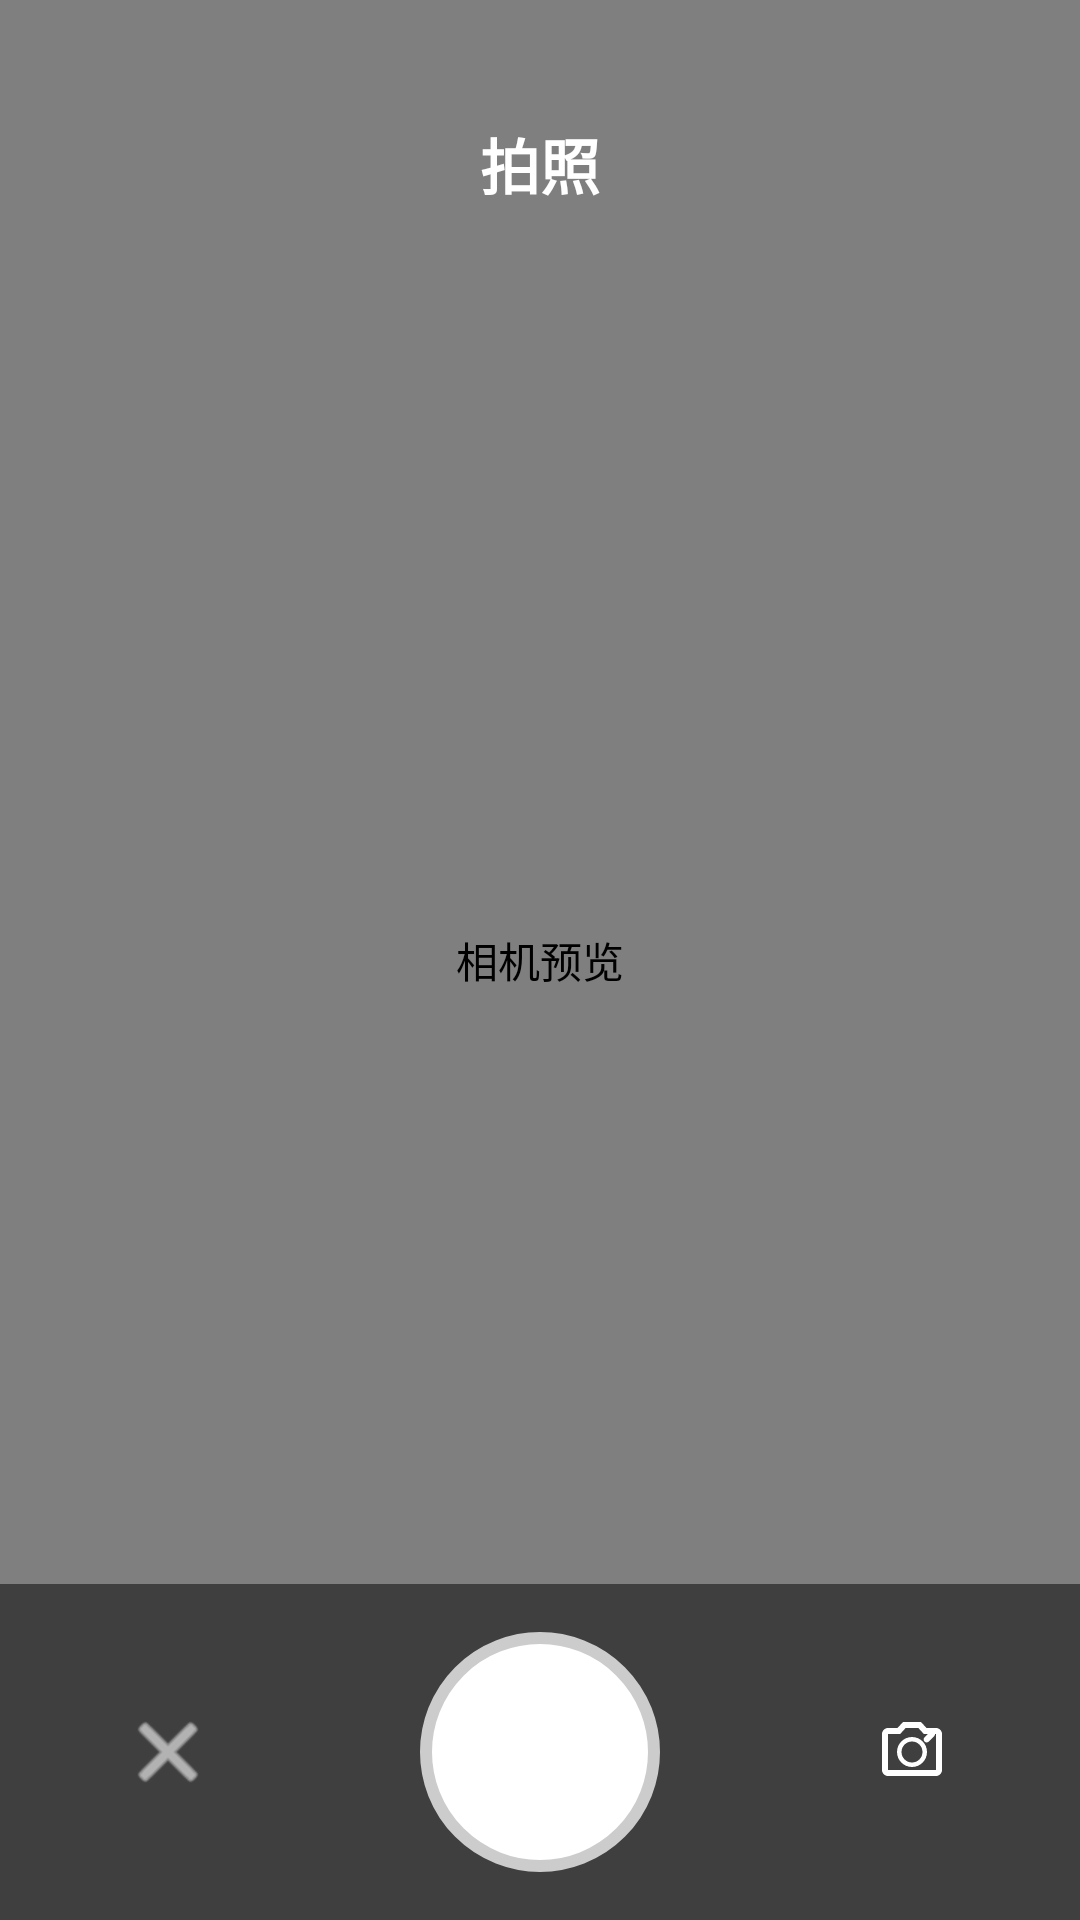

Screen size 1080px×1920px. Icon name, then its box in pixels as [x1=x1, y1=y1, x2=x2, y2=y2]:
关闭相机: [x1=138, y1=1722, x2=198, y2=1782]
切换摄像头: [x1=882, y1=1722, x2=942, y2=1776]
